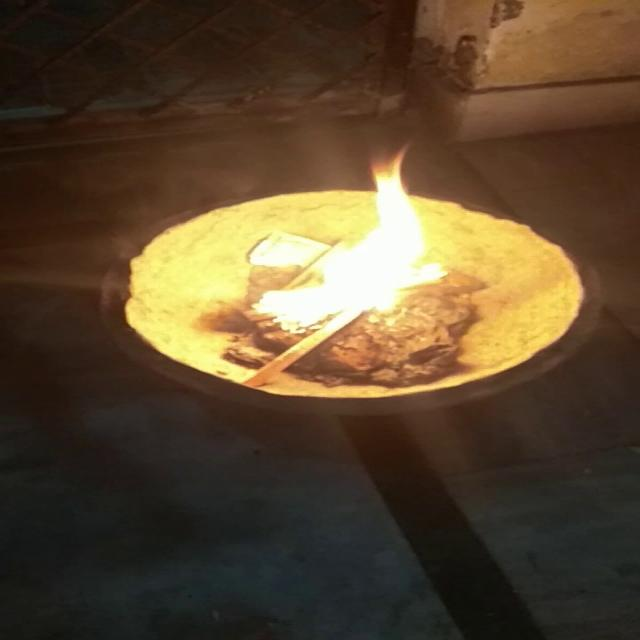fire: (247, 163, 453, 332)
